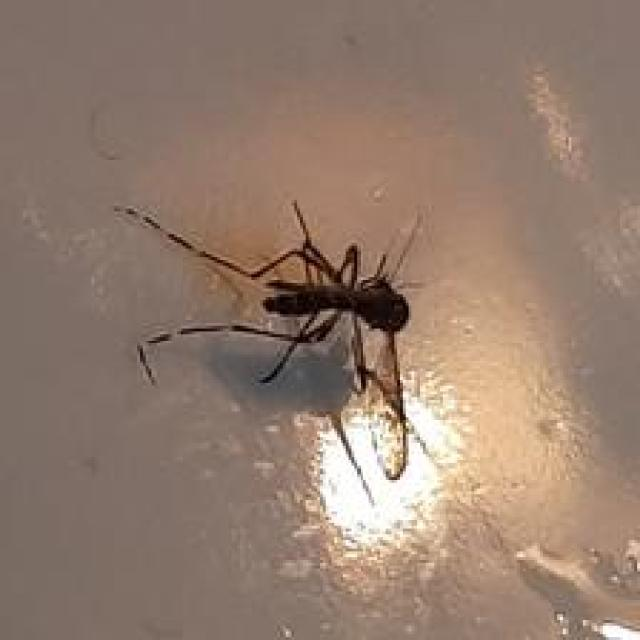Aedes albopictus: (113, 197, 430, 492)
